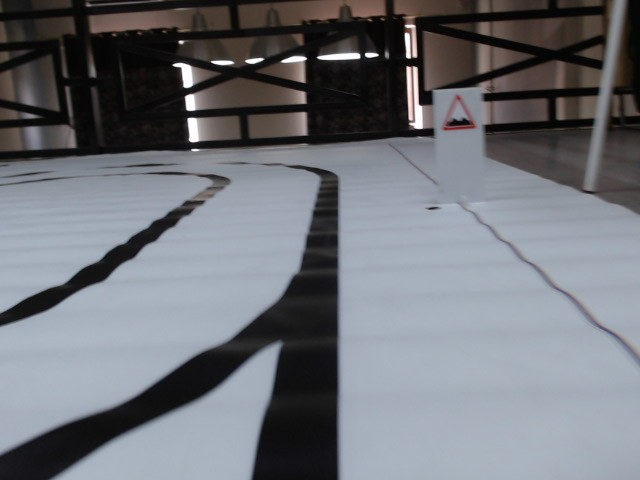Nerov: (441, 93, 477, 131)
